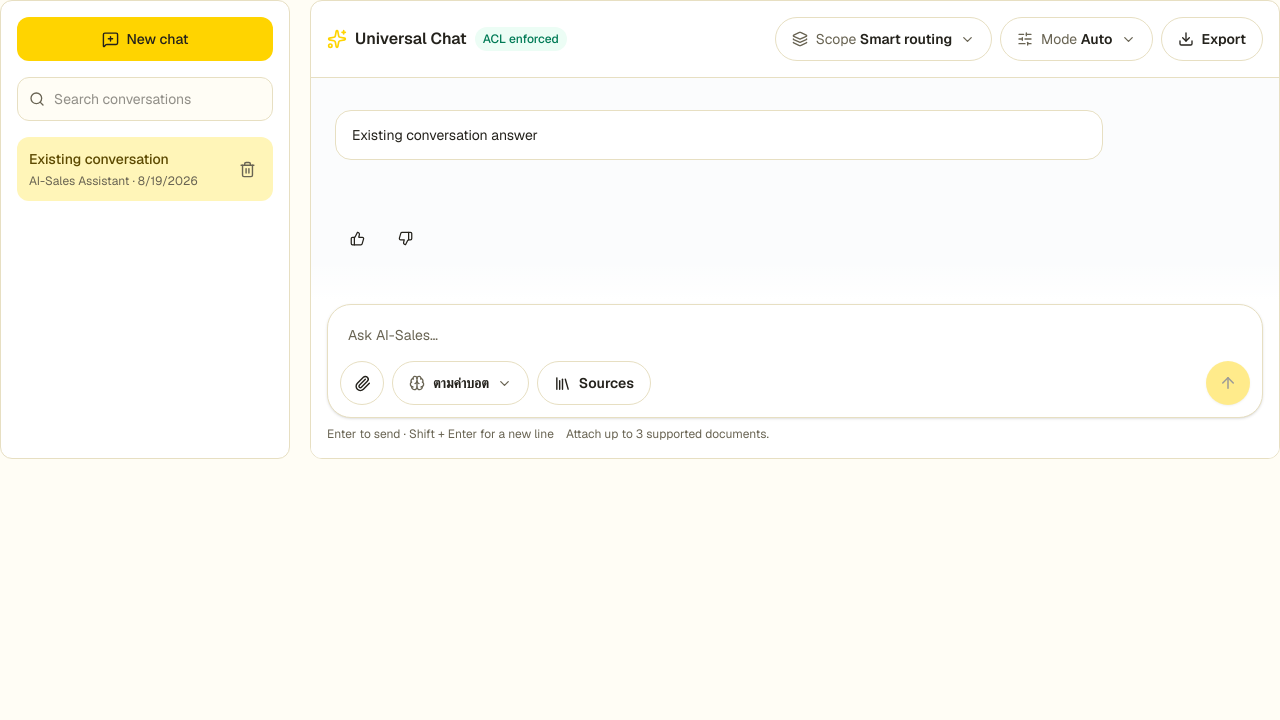
Scenario: universal chat navigation › clears the active conversation when New chat is selected
Click the link "New chat".
click(145, 39)  # box [17, 17, 273, 61]
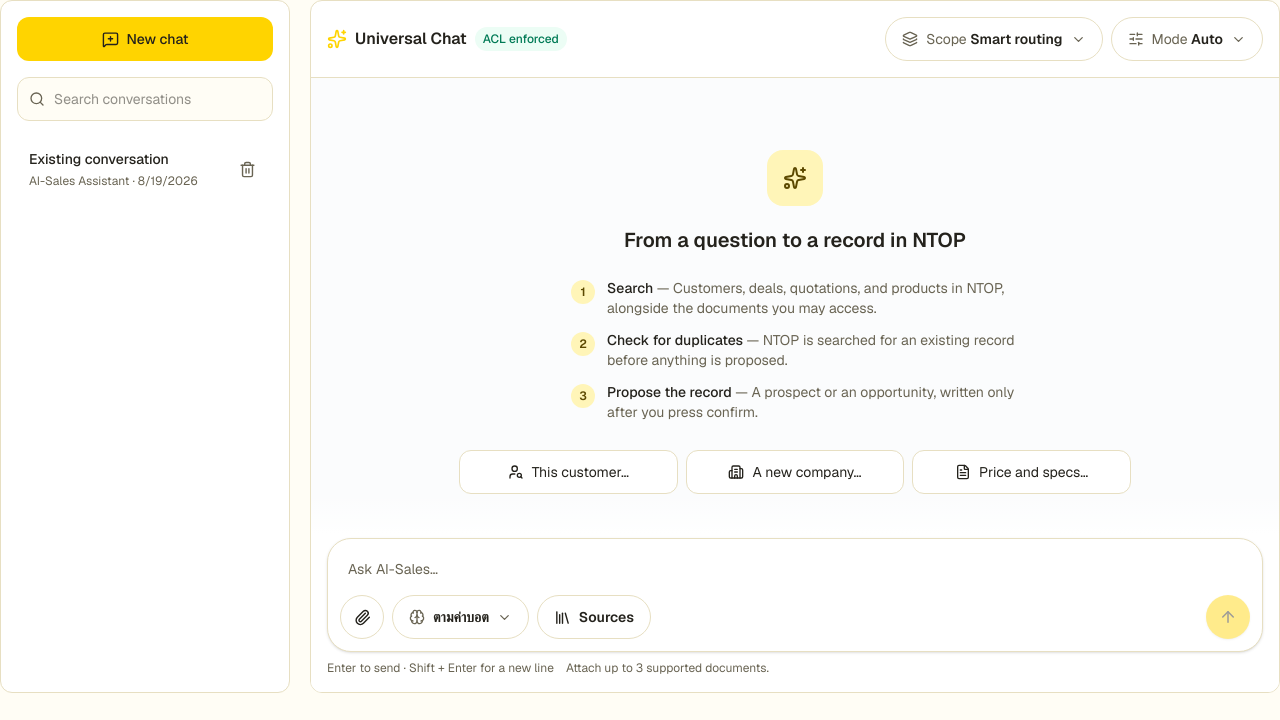
expect the text "Existing conversation answer" is gone: met
expect the heading "From a question to a record in NTOP" is shown: met, box [624, 227, 966, 253]
